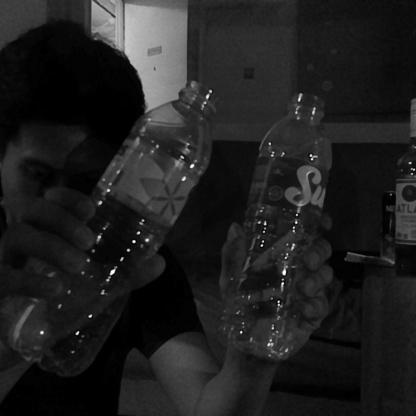plastic_bottles: (16, 78, 220, 380), (216, 90, 336, 356)
